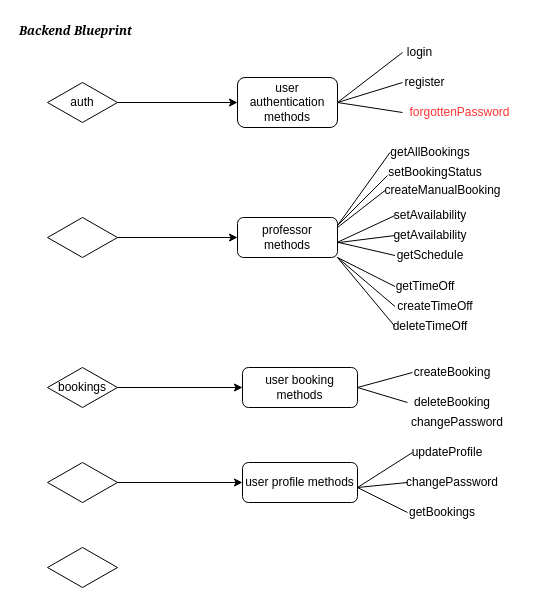
Some shapes in this 534 by 605 pixel diagram are drawn without their labels. The centre of each missing label's shape, as x and y in pixels:
admin: (82,237)
slots: (82,567)
users: (82,482)
